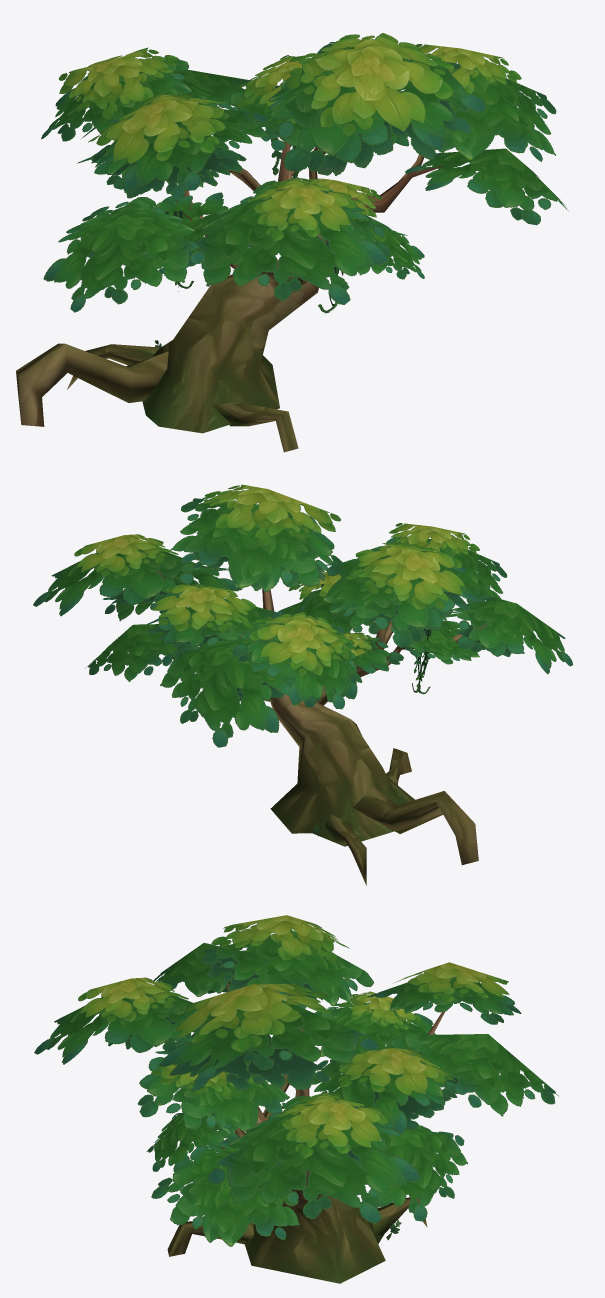
The model's file is sm_tree_04.FBX.
3 renders of one model, top to bottom at view 1: azimuth 30°, elevation 25°; view 2: azimuth 150°, elevation 25°; view 3: azimuth 270°, elevation 25°, orthographic. The views are drawn at different scales.
Visible parts, largest first — view 1: Object02; view 2: Object02; view 3: Object02.
Boxes of the visible parts, bbox=[...] form: Object02: bbox=[16, 33, 568, 452]; Object02: bbox=[33, 484, 572, 885]; Object02: bbox=[34, 915, 558, 1283].
Size of the model in its own units: 2484 by 2192 by 1430.
